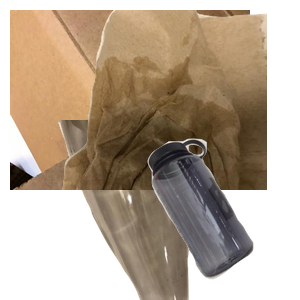cardboard: (10, 10, 250, 190)
glass: (56, 120, 241, 300)
plastic: (145, 136, 300, 300)
trash: (60, 10, 300, 190)
